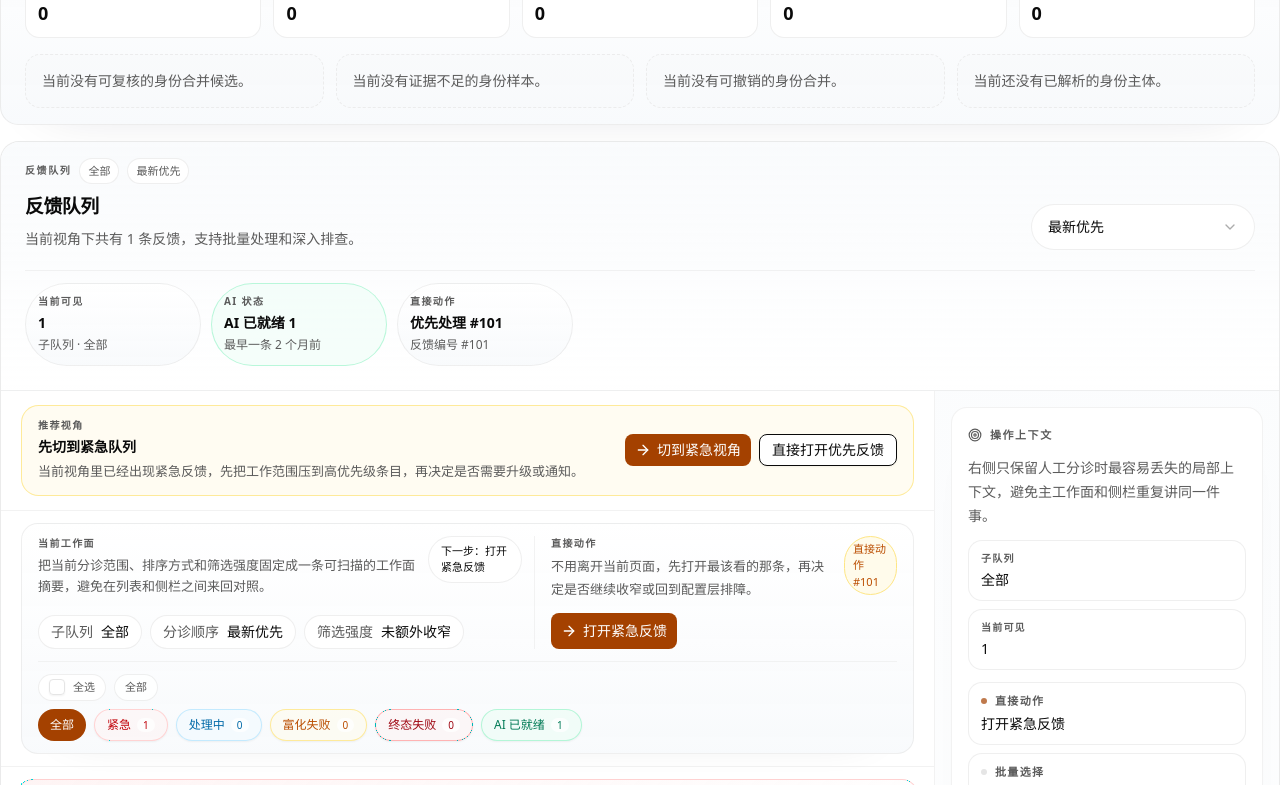
it: _authed.feedback route — user flow smoke › recommended lane also offers a direct-open shortcut for the priority feedback
(page scrolled)
Click the button "直接打开优先反馈" at {"x": 828, "y": 450}, box [759, 434, 897, 466]
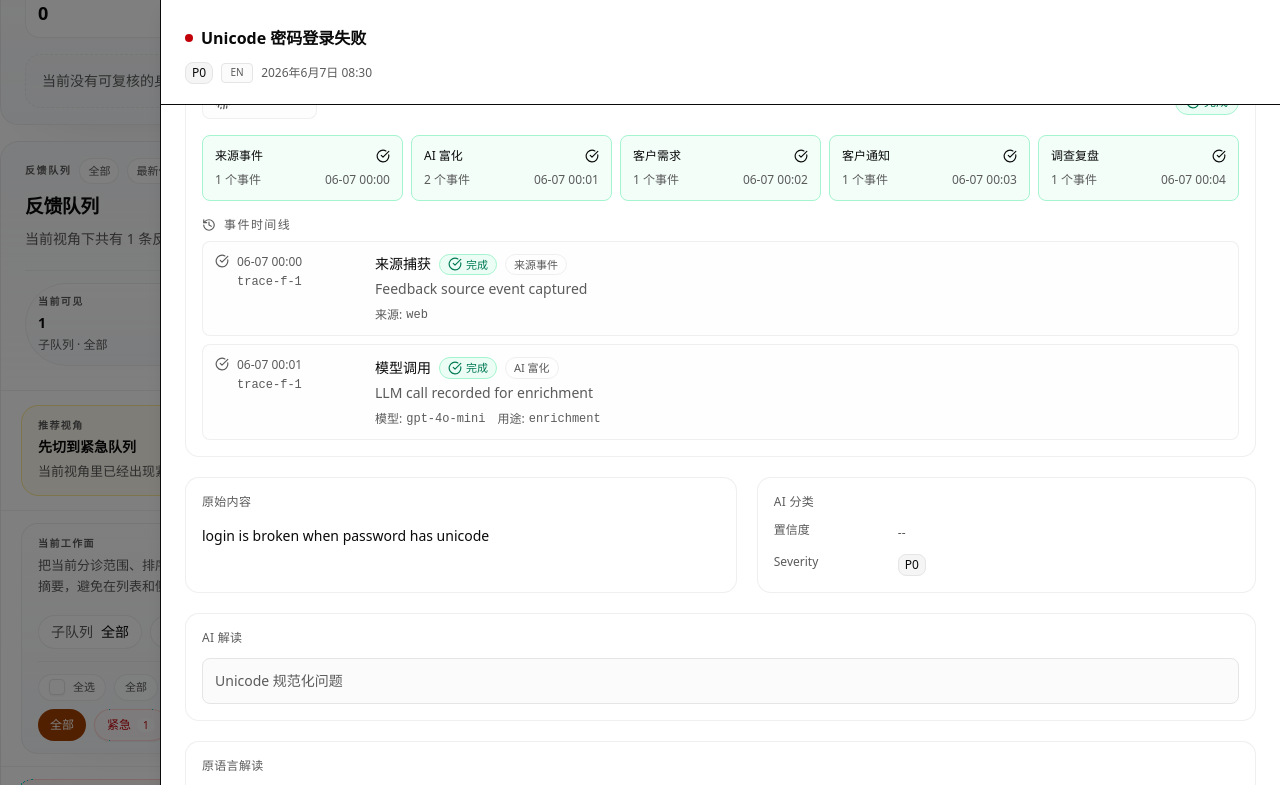
Expected: the text "Unicode 规范化问题" is shown, [202, 658, 1239, 704]
